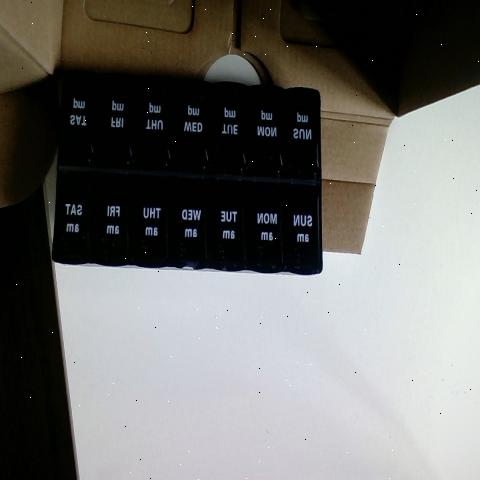FRI-am: (95, 176, 130, 264)
FRI-pm: (95, 82, 130, 167)
MON-am: (246, 178, 280, 270)
MON-pm: (242, 89, 284, 176)
SAT-am: (54, 172, 95, 261)
SAT-pm: (61, 80, 97, 171)
SUN-am: (283, 182, 317, 280)
SUN-pm: (280, 96, 316, 179)
THU-am: (209, 174, 243, 266), (134, 181, 165, 270)
THU-pm: (137, 78, 172, 174)
TUE-pm: (206, 87, 242, 170)
WED-am: (168, 177, 205, 265)
WED-pm: (173, 84, 208, 176)
